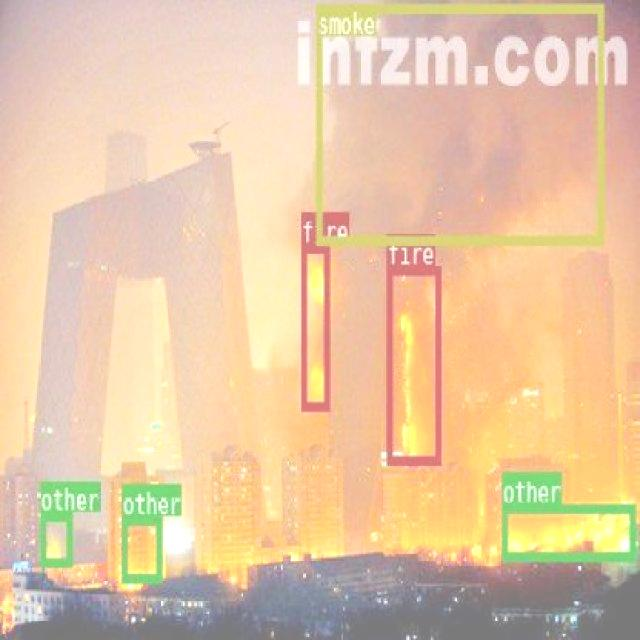fire: (386, 266, 440, 462), (300, 242, 328, 408)
smoke: (316, 2, 602, 242)
